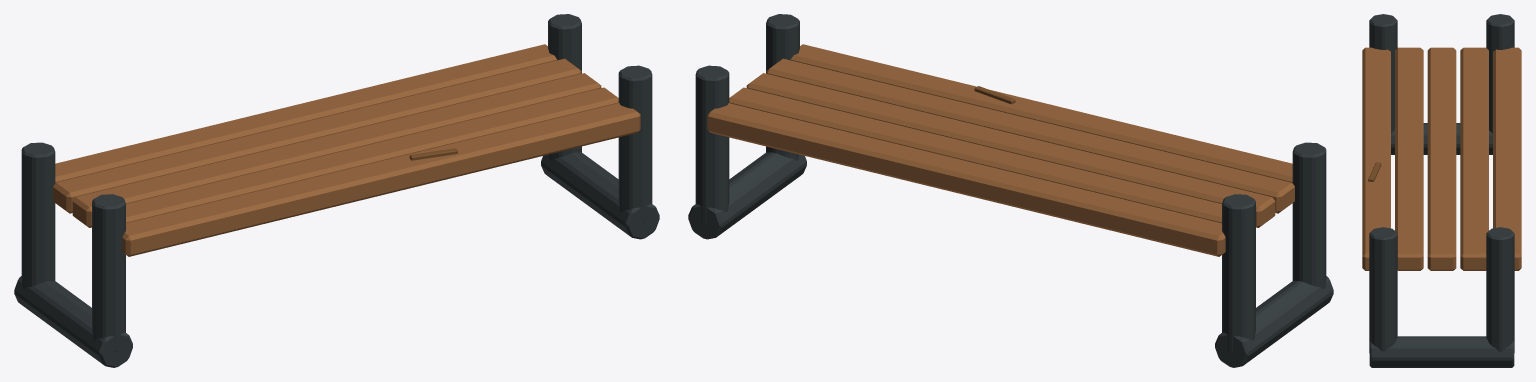
Rendered from runtime.glb.
3 renders of one model, left to right at view 1: azimuth 30°, elevation 25°; view 2: azimuth 150°, elevation 25°; view 3: azimuth 270°, elevation 25°, orthographic. The views are drawn at different scales.
Parts seen in each view (by area): view 1: eiffel-historic-bench-v02_nocol; view 2: eiffel-historic-bench-v02_nocol; view 3: eiffel-historic-bench-v02_nocol.
Part boxes in pixels (x1,y1,x2,y2): eiffel-historic-bench-v02_nocol: (14, 14, 659, 367); eiffel-historic-bench-v02_nocol: (688, 14, 1333, 367); eiffel-historic-bench-v02_nocol: (1362, 14, 1521, 367).
Size of the model in its own units: 2.37 by 0.654 by 0.7043.
